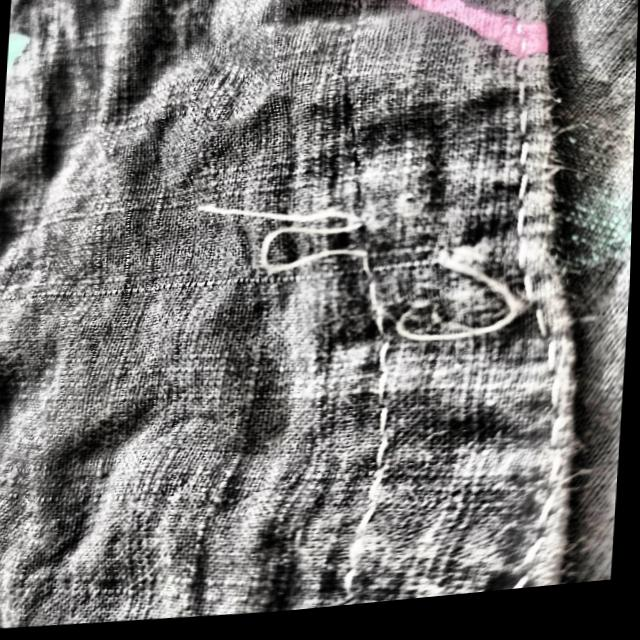Stitch: (166, 159, 560, 382)
